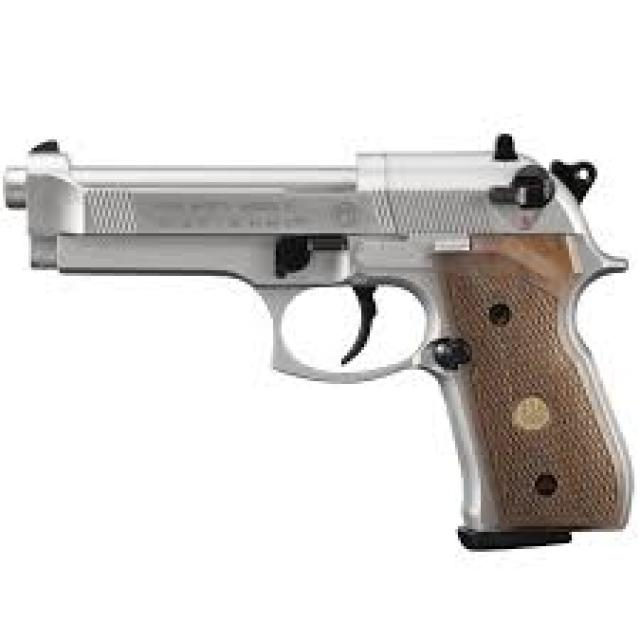pistol: (1, 122, 640, 568)
